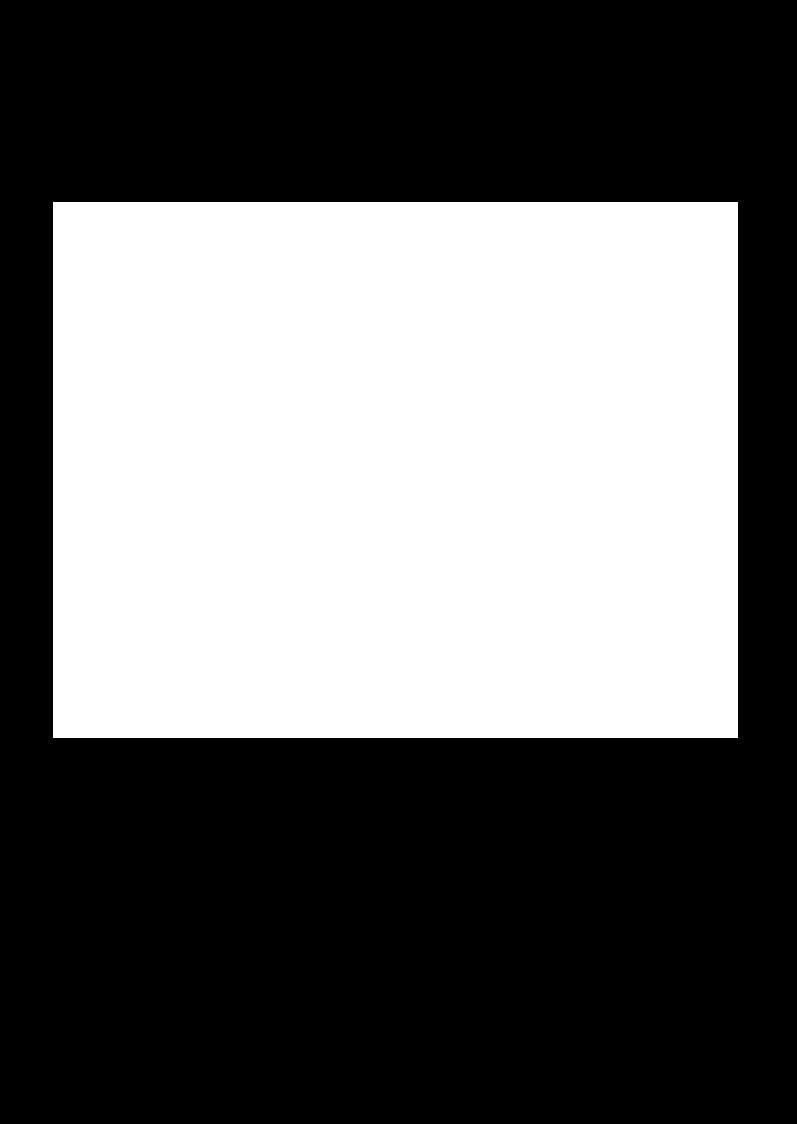table: (53, 202, 737, 737)
